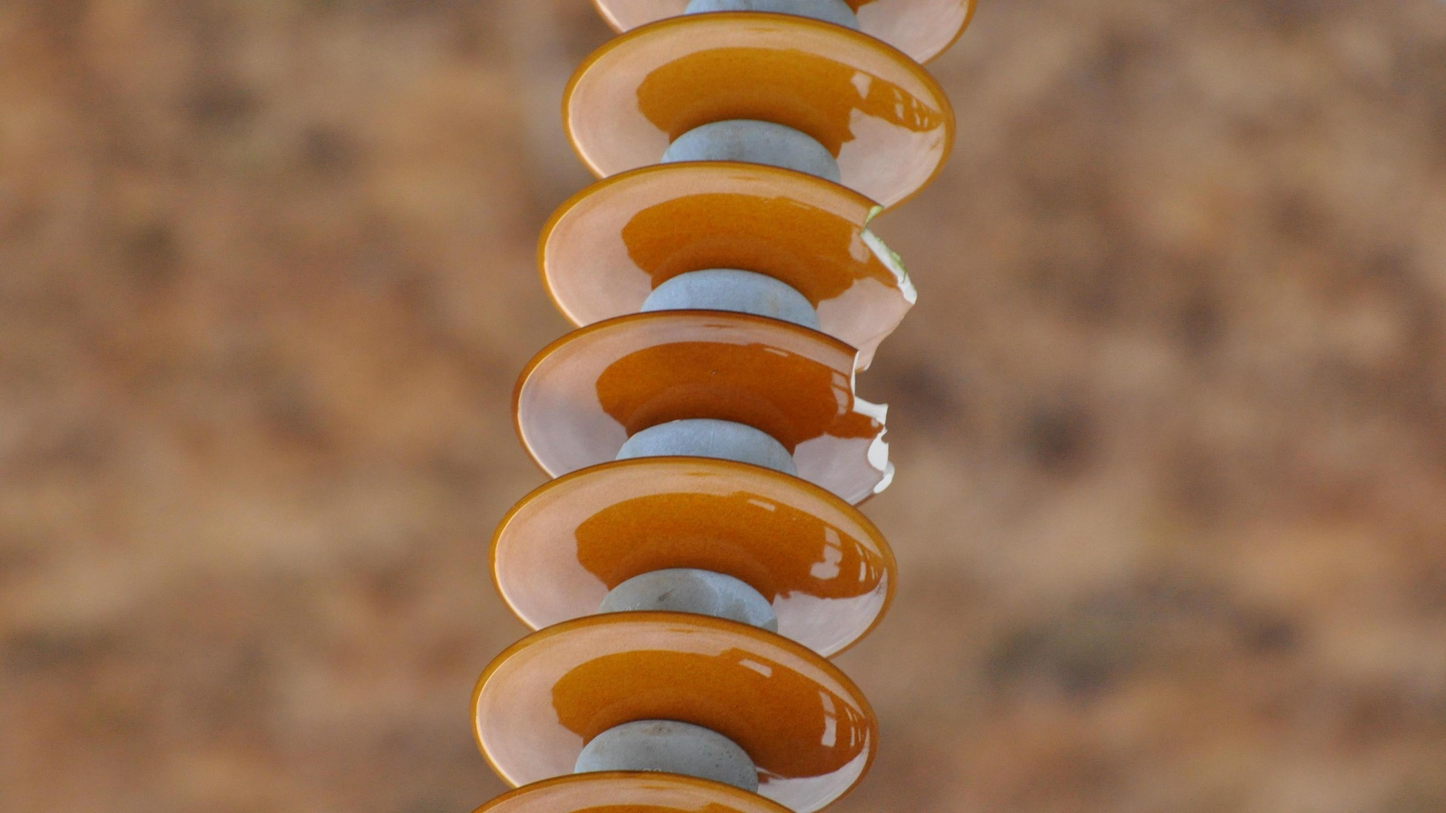insulator: (454, 1, 984, 813)
insulator_breakage: (841, 341, 902, 501), (854, 196, 928, 312)
